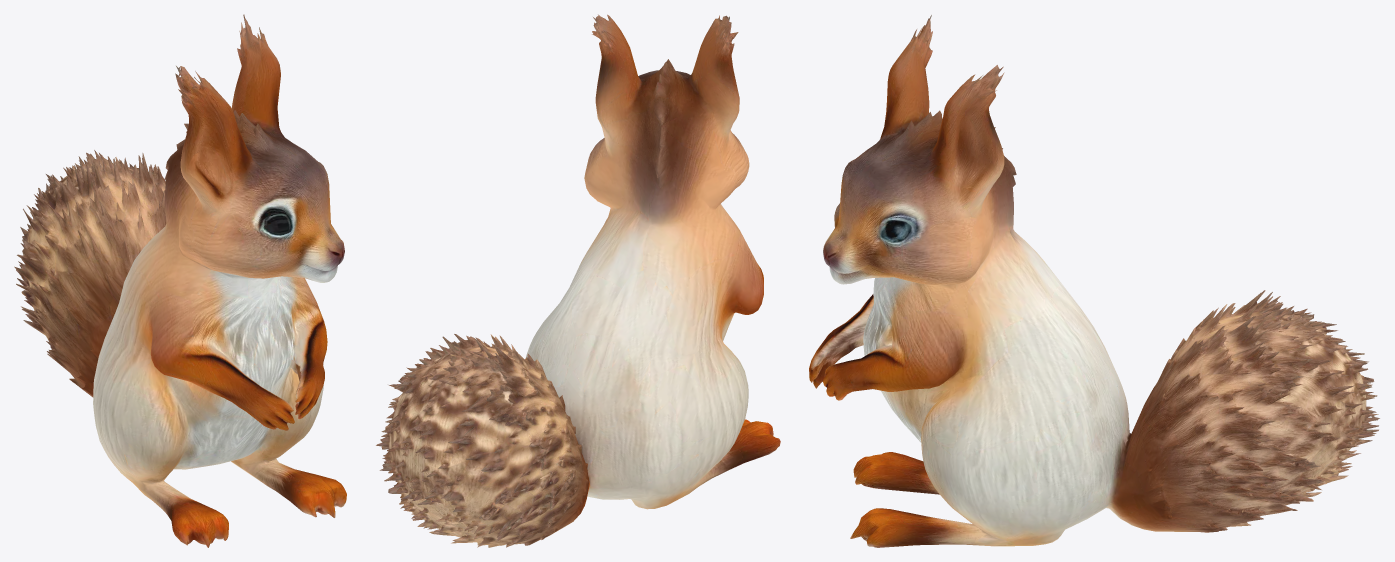
The model's file is animal-eekhoorn-squirrel.glb.
The picture shows the model from 3 angles, left to right: view 1: azimuth 30°, elevation 25°; view 2: azimuth 150°, elevation 25°; view 3: azimuth 270°, elevation 25°; orthographic projection. The views are drawn at different scales.
Size of the model in its own units: 0.8753 by 1.74 by 1.91.
Materials: 1 (1 with a texture image).
